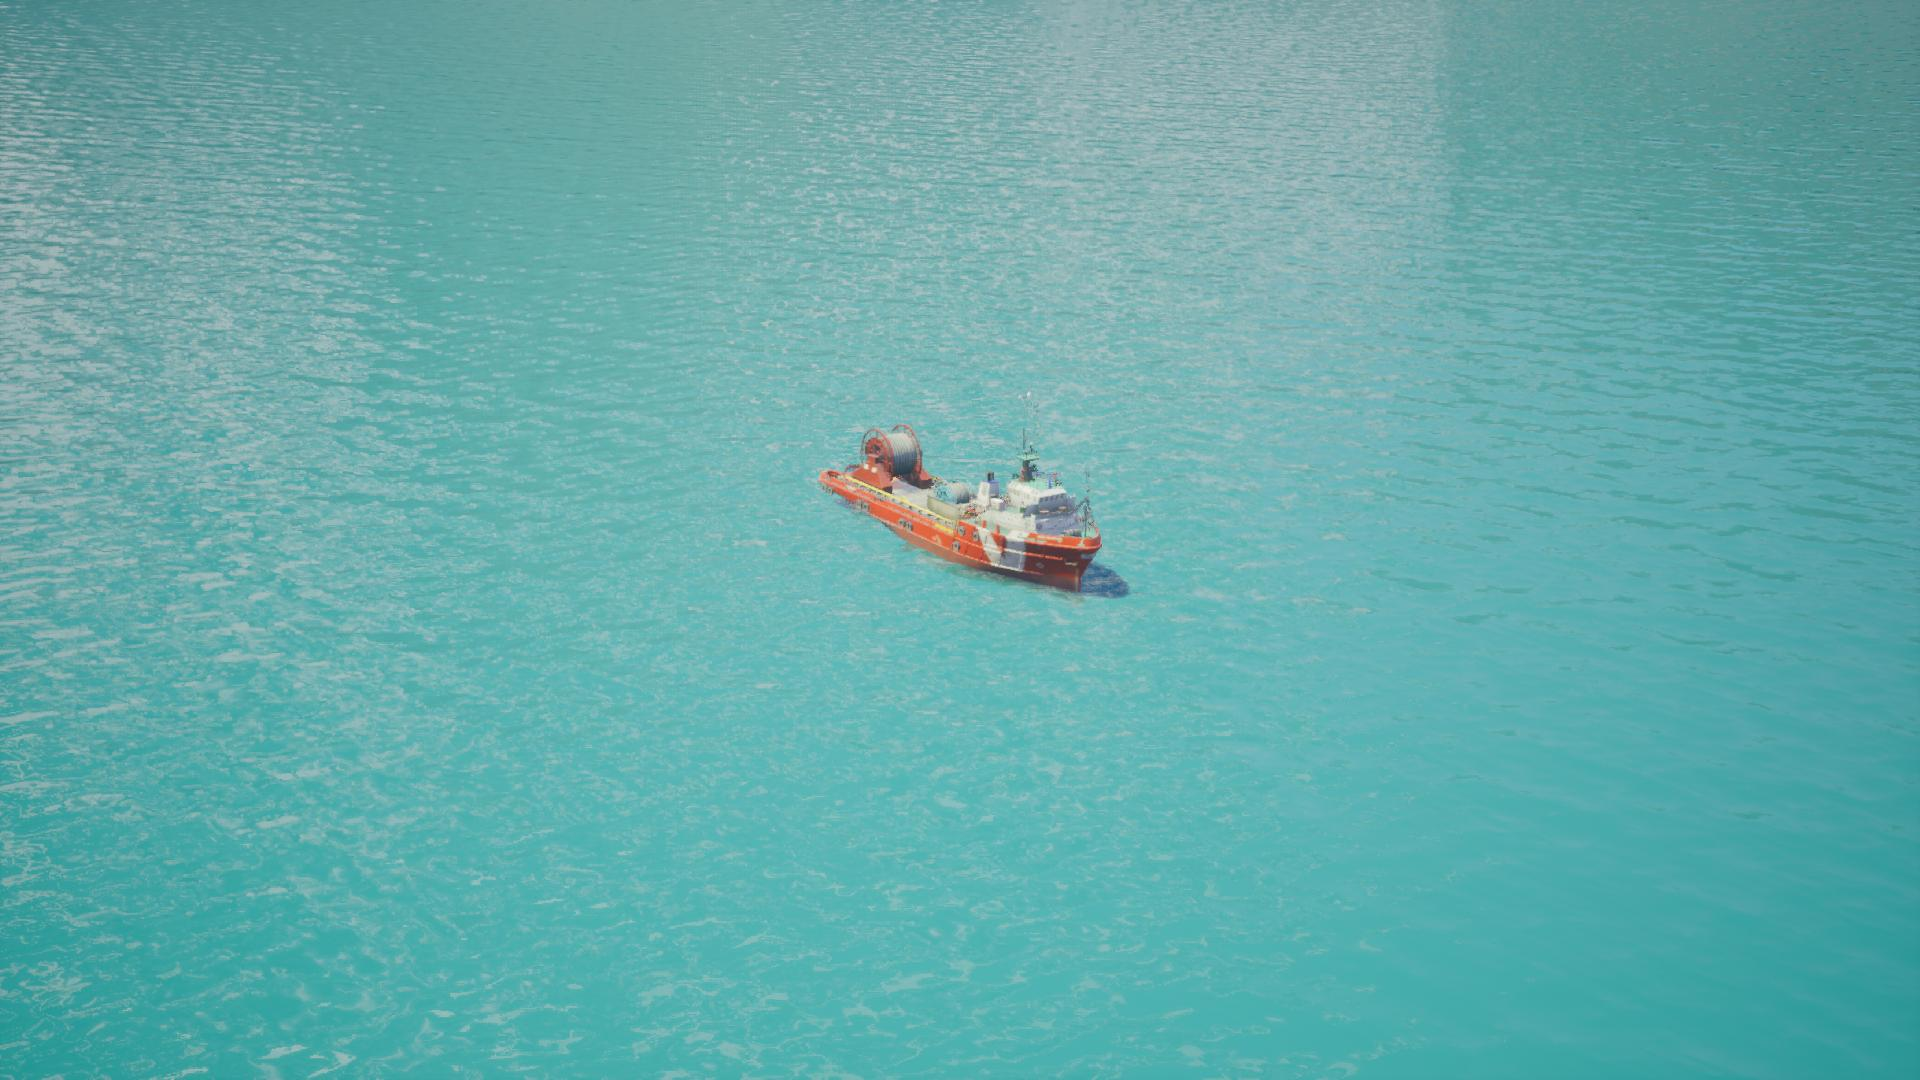Tug Boat: (818, 423, 1116, 594)
